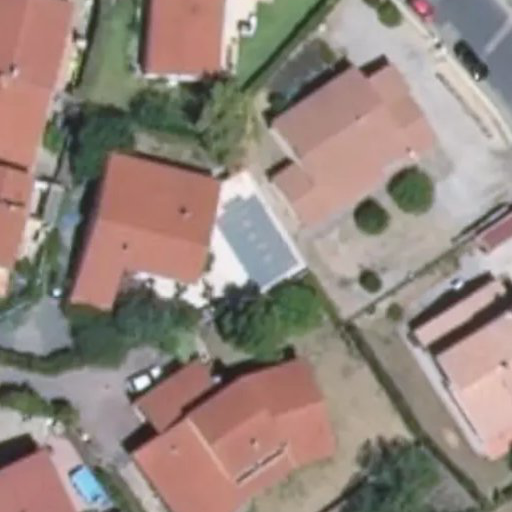pool: (217, 219, 294, 263)
